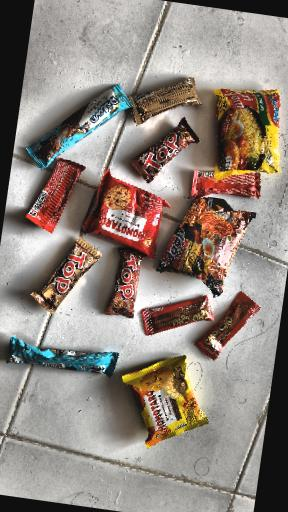chocho: (200, 282, 263, 363), (29, 155, 87, 234), (139, 289, 215, 340)
dilan: (22, 71, 133, 183), (0, 332, 119, 379)
indomie: (195, 78, 288, 179), (184, 164, 274, 213)
mie sedap: (159, 187, 257, 300)
momotaro: (109, 339, 223, 457), (82, 168, 170, 264)
top: (26, 232, 102, 317), (122, 111, 202, 187), (118, 65, 206, 125), (105, 242, 148, 325)
